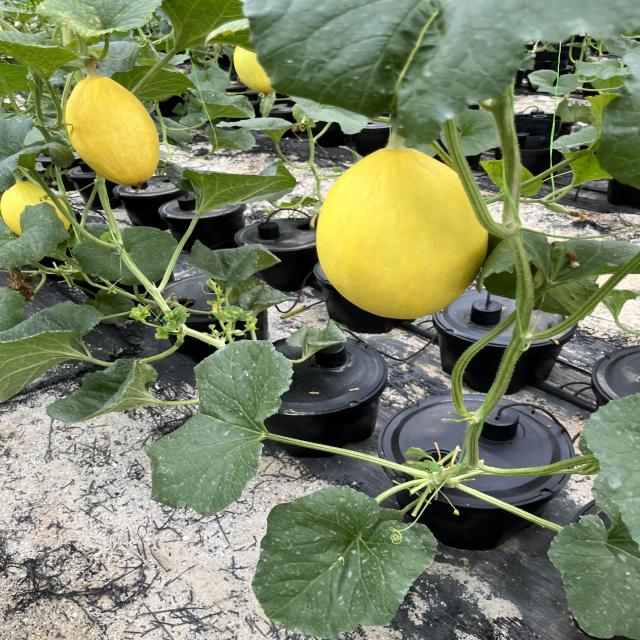CMV: (0, 38, 91, 80)
alternaria leaf blight: (34, 0, 165, 33)
healthy: (181, 161, 292, 216)
powdery mildew: (262, 476, 440, 640), (139, 338, 304, 504), (543, 504, 640, 640), (0, 299, 102, 391), (48, 364, 168, 428), (0, 204, 69, 269), (185, 236, 280, 282)
